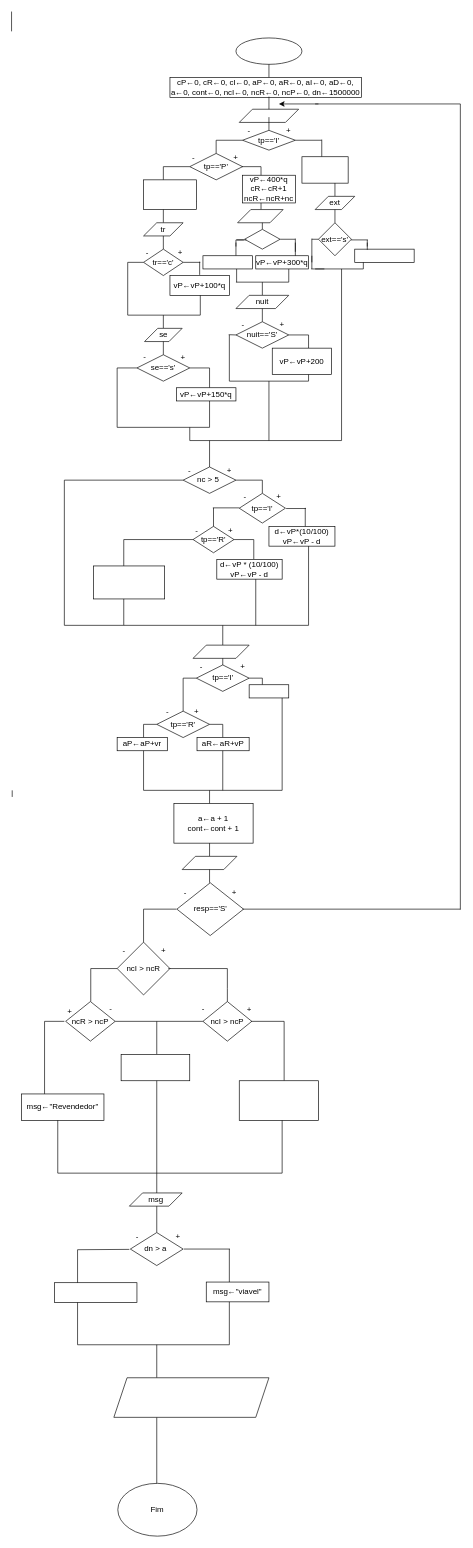
Some shapes in this 473 by 1548 pixel diagram are drawn without their labels. The centre of each missing label's shape, as x and y in pixels:
aI, aR, aP, cI, cR, cP, aD, msg: the point at 191,1397
aI←aI+vP: the point at 268,691
c←vP*(10/100) vr←vr+c aC ←aC+vr: the point at 129,582
env: the point at 260,216
env==c: the point at 262,239
Inicio: the point at 268,50
msg←"Individual": the point at 278,1100
msg←"Parceiro'': the point at 155,1067
msg←''gratis'': the point at 227,262
msg←''nao viavel": the point at 95,1292
resp: the point at 209,863
tp,q,nc: the point at 269,115
vP,vr: the point at 220,651
vP←250*q cP←cP+1 ncP←ncP+nc: the point at 169,194
vP←500*q cI←cI+1 ncI←ncI+nc: the point at 324,169
vP←vP+(50*q): the point at 384,255
